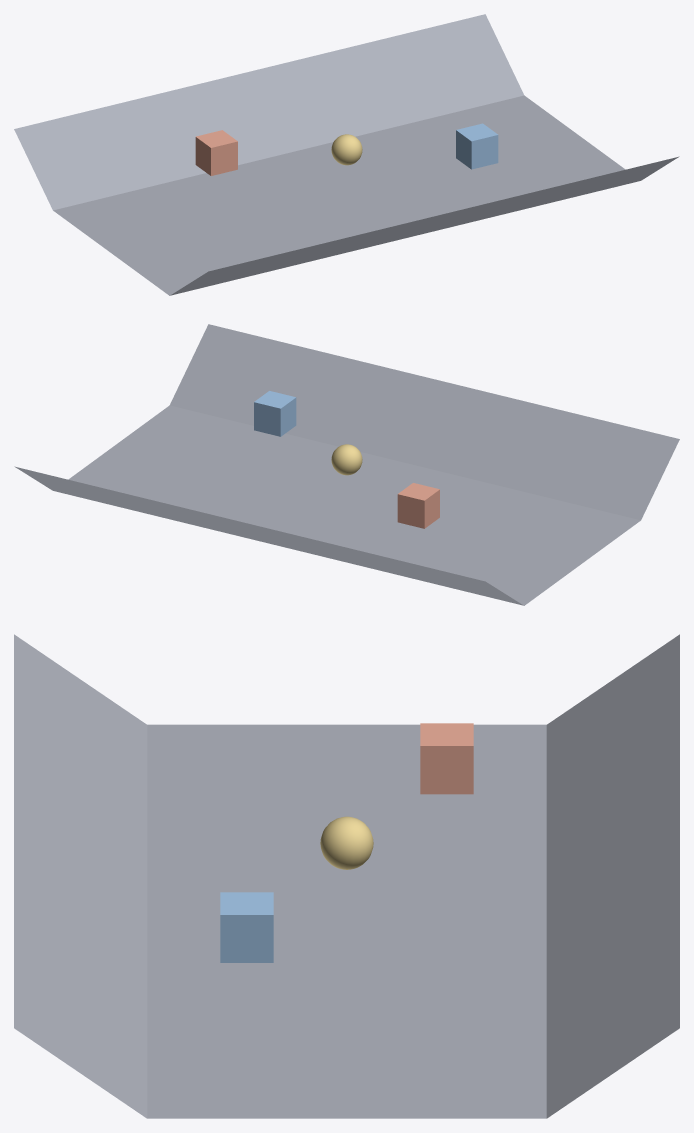
The model's file is StaticMeshDemo.gltf.
The picture shows the model from 3 angles, top to bottom: view 1: azimuth 30°, elevation 25°; view 2: azimuth 150°, elevation 25°; view 3: azimuth 270°, elevation 25°; orthographic projection. The views are drawn at different scales.
Visible parts, largest first — view 1: Valley, Box1, Box0, Ball; view 2: Valley, Box0, Box1, Ball; view 3: Valley, Box0, Box1, Ball.
Boxes of the visible parts, x1=… form: Valley: x1=14, y1=14, x2=679, y2=295; Box1: x1=456, y1=123, x2=498, y2=169; Box0: x1=195, y1=130, x2=237, y2=175; Ball: x1=331, y1=134, x2=362, y2=165; Valley: x1=14, y1=324, x2=679, y2=605; Box0: x1=397, y1=483, x2=439, y2=528; Box1: x1=254, y1=391, x2=296, y2=436; Ball: x1=331, y1=444, x2=362, y2=475; Valley: x1=14, y1=634, x2=679, y2=1118; Box0: x1=420, y1=723, x2=473, y2=794; Box1: x1=220, y1=892, x2=273, y2=962; Ball: x1=320, y1=816, x2=373, y2=869.
Bounding box in the file's own units: 14 × 1.7 × 10.
